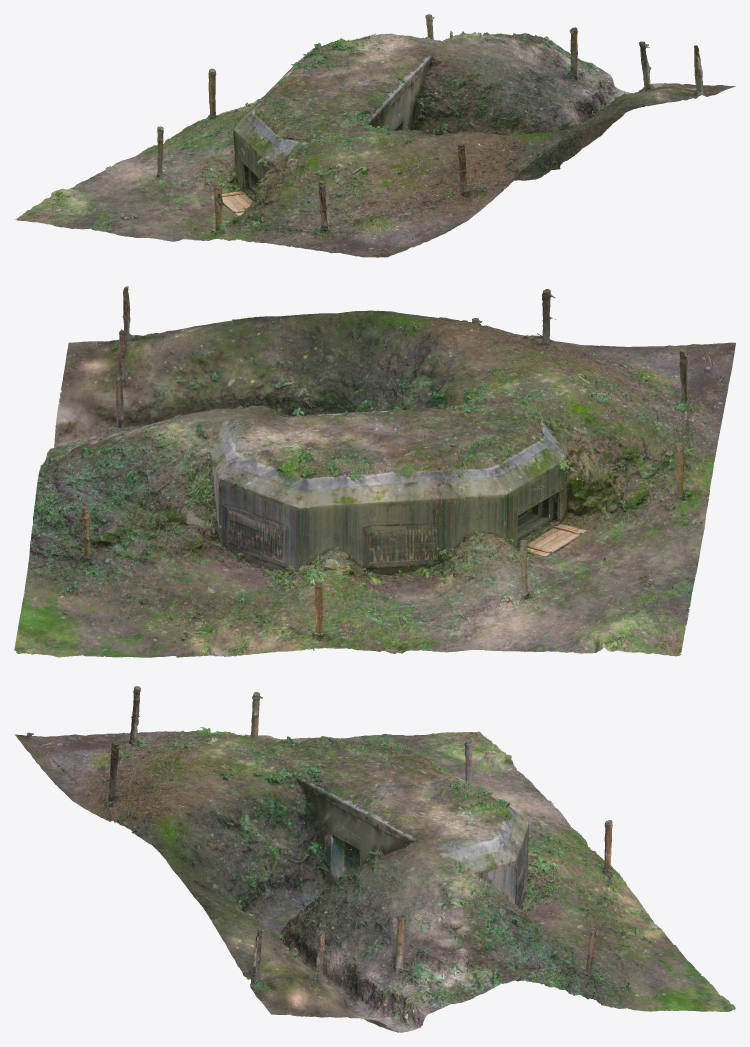
File: sf-bunker-v-b-87-c-cd3efc.glb
The picture shows the model from 3 angles, top to bottom: view 1: azimuth 30°, elevation 25°; view 2: azimuth 150°, elevation 25°; view 3: azimuth 270°, elevation 25°; orthographic projection. The views are drawn at different scales.
Parts seen in each view (by area): view 1: Model_material1_0, Model_material0_0, Model_material2_0; view 2: Model_material1_0, Model_material2_0, Model_material0_0; view 3: Model_material2_0, Model_material0_0, Model_material1_0.
Boxes of the visible parts, x1,y1,x2,y2 form: Model_material1_0: (52,33,704,257); Model_material0_0: (15,14,664,257); Model_material2_0: (87,16,735,257); Model_material1_0: (36,291,735,653); Model_material2_0: (14,286,734,657); Model_material0_0: (30,289,734,657); Model_material2_0: (27,687,735,1018); Model_material0_0: (27,686,686,999); Model_material1_0: (14,693,661,1032).
Bounding box in the file's own units: 10.42 × 2.47 × 9.42.
3 materials, 3 textured.
